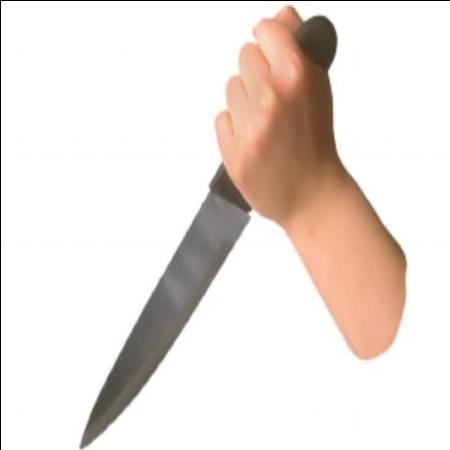long weapon: (74, 93, 290, 448)
